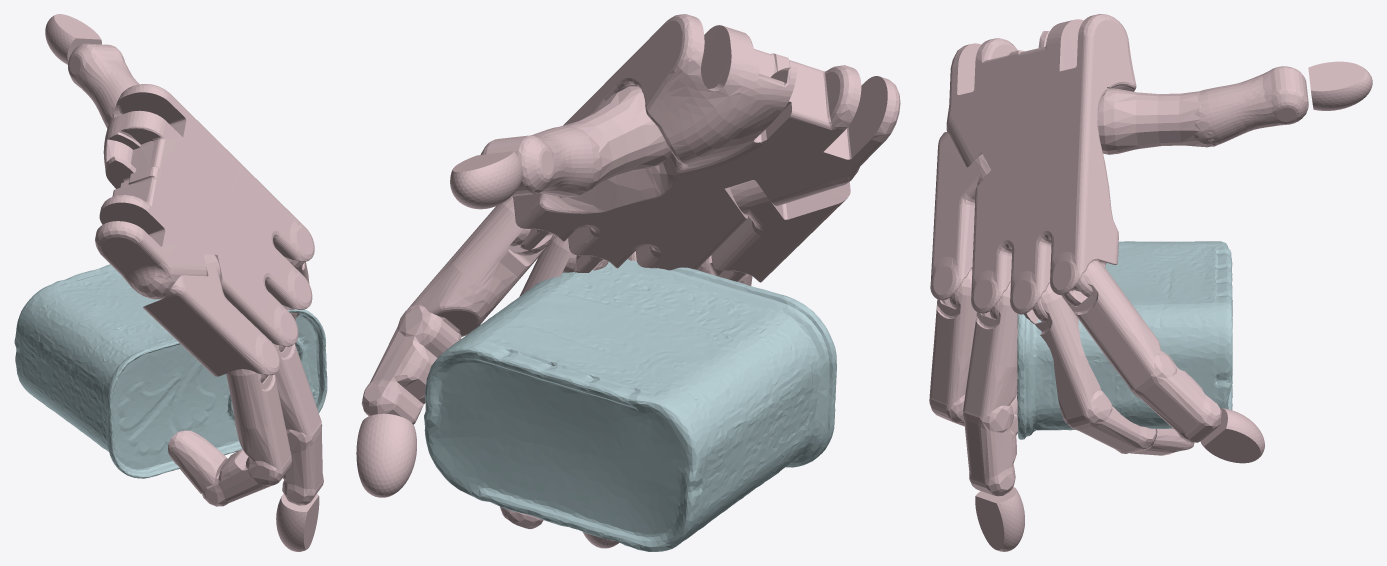
The model's file is grasp_9.glb.
3 renders of one model, left to right at view 1: azimuth 30°, elevation 25°; view 2: azimuth 150°, elevation 25°; view 3: azimuth 270°, elevation 25°, orthographic. The views are drawn at different scales.
Visible parts, largest first — view 1: world; view 2: world; view 3: world.
Boxes of the visible parts, left/top/right/bottom form: world: left=14, top=14, right=327, bottom=551; world: left=356, top=14, right=900, bottom=551; world: left=929, top=14, right=1372, bottom=551.
Size of the model in its own units: 0.1385 by 0.2043 by 0.1709.
